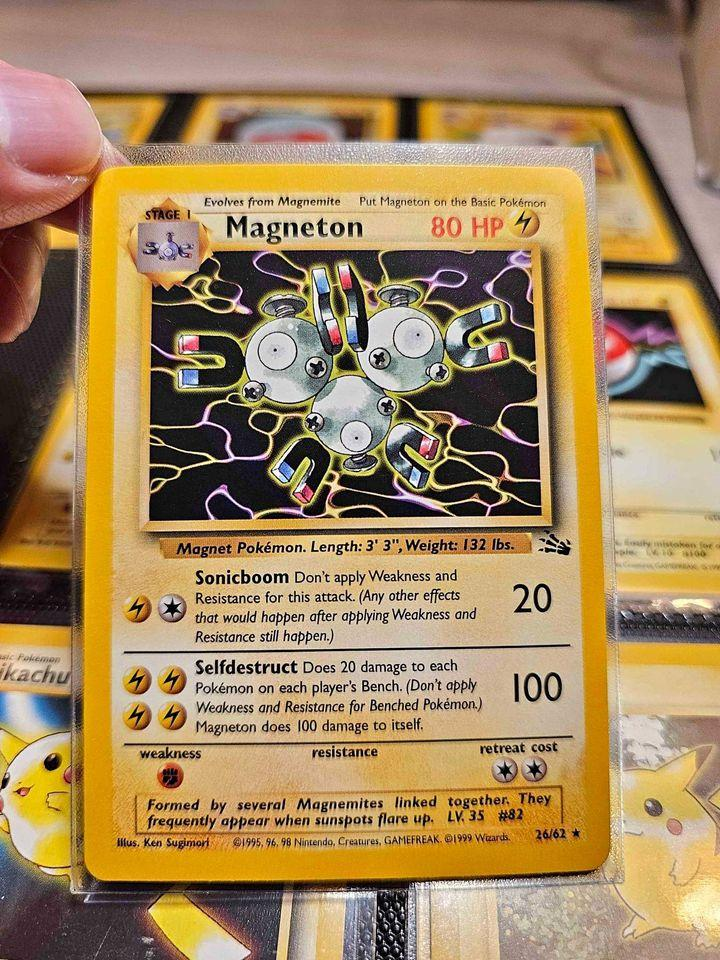card: (83, 164, 612, 883), (0, 621, 350, 960), (426, 639, 720, 960), (416, 97, 683, 266), (175, 92, 398, 143)
